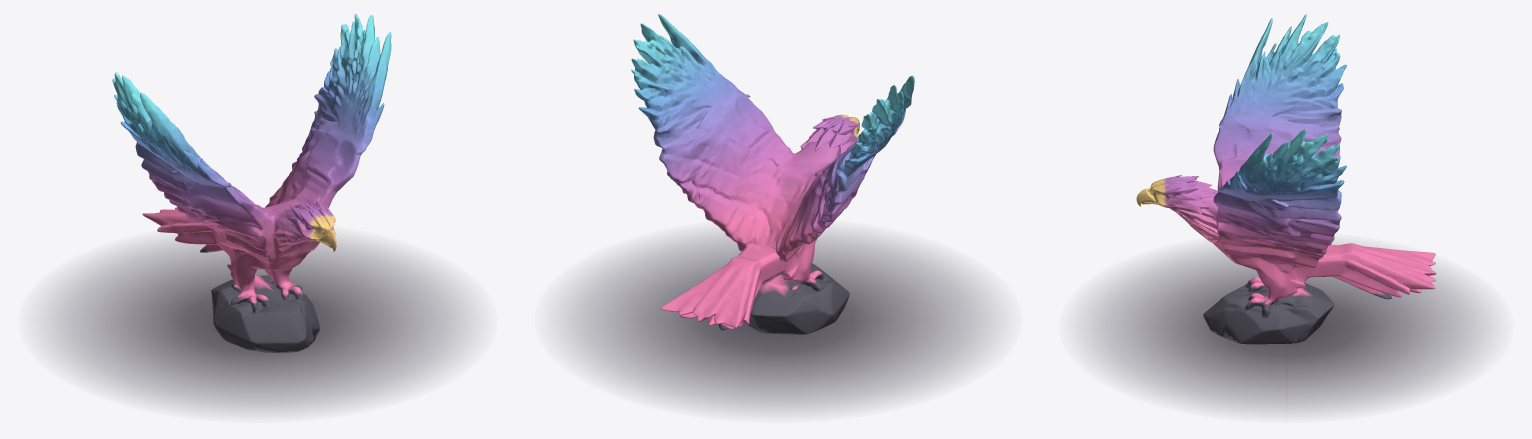
Rendered from eagle.glb.
3 renders of one model, left to right at view 1: azimuth 30°, elevation 25°; view 2: azimuth 150°, elevation 25°; view 3: azimuth 270°, elevation 25°, orthographic. The views are drawn at different scales.
Parts seen in each view (by area): view 1: ground, eagle; view 2: ground, eagle; view 3: ground, eagle.
Part boxes in pixels (x1=…): ground: x1=35, y1=234, x2=480, y2=415; eagle: x1=112, y1=14, x2=391, y2=352; ground: x1=551, y1=227, x2=1005, y2=415; eagle: x1=631, y1=14, x2=914, y2=334; ground: x1=1075, y1=240, x2=1497, y2=418; eagle: x1=1136, y1=14, x2=1436, y2=344.
Size of the model in its own units: 2.52 by 1.53 by 2.52.
